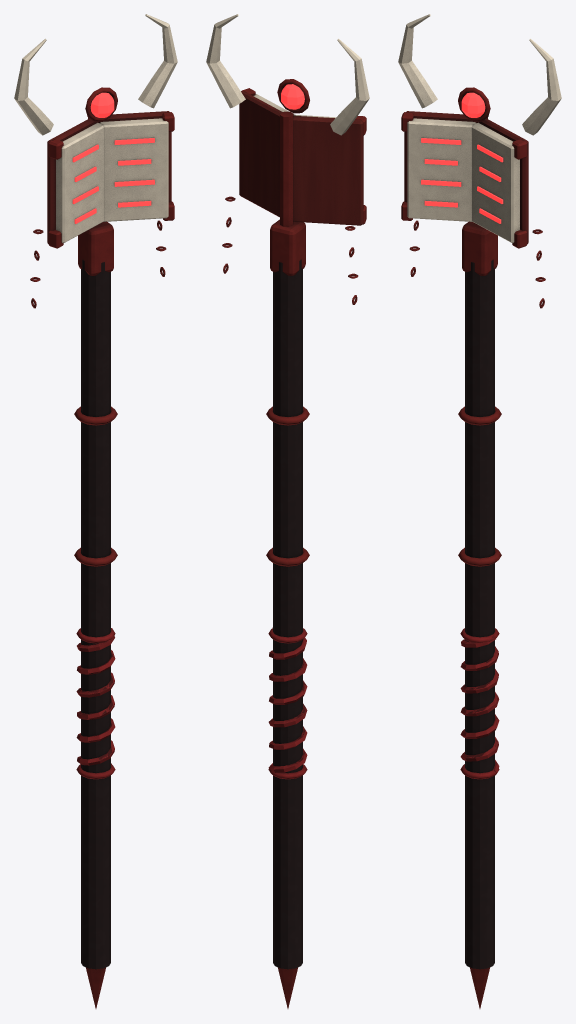
The model's file is 07_hell_magic.fbx.
3 renders of one model, left to right at view 1: azimuth 30°, elevation 25°; view 2: azimuth 150°, elevation 25°; view 3: azimuth 330°, elevation 25°, orthographic.
Visible parts, largest first — view 1: Weapon; view 2: Weapon; view 3: Weapon.
Part boxes in pixels (x1,y1,x2,y2): Weapon: (14, 14, 177, 1008); Weapon: (206, 14, 369, 1008); Weapon: (398, 14, 561, 1008).
Size of the model in its own units: 28.63 by 168 by 9.59.
Materials: 2 (1 with a texture image).
